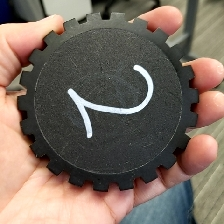gear: (14, 10, 201, 193)
